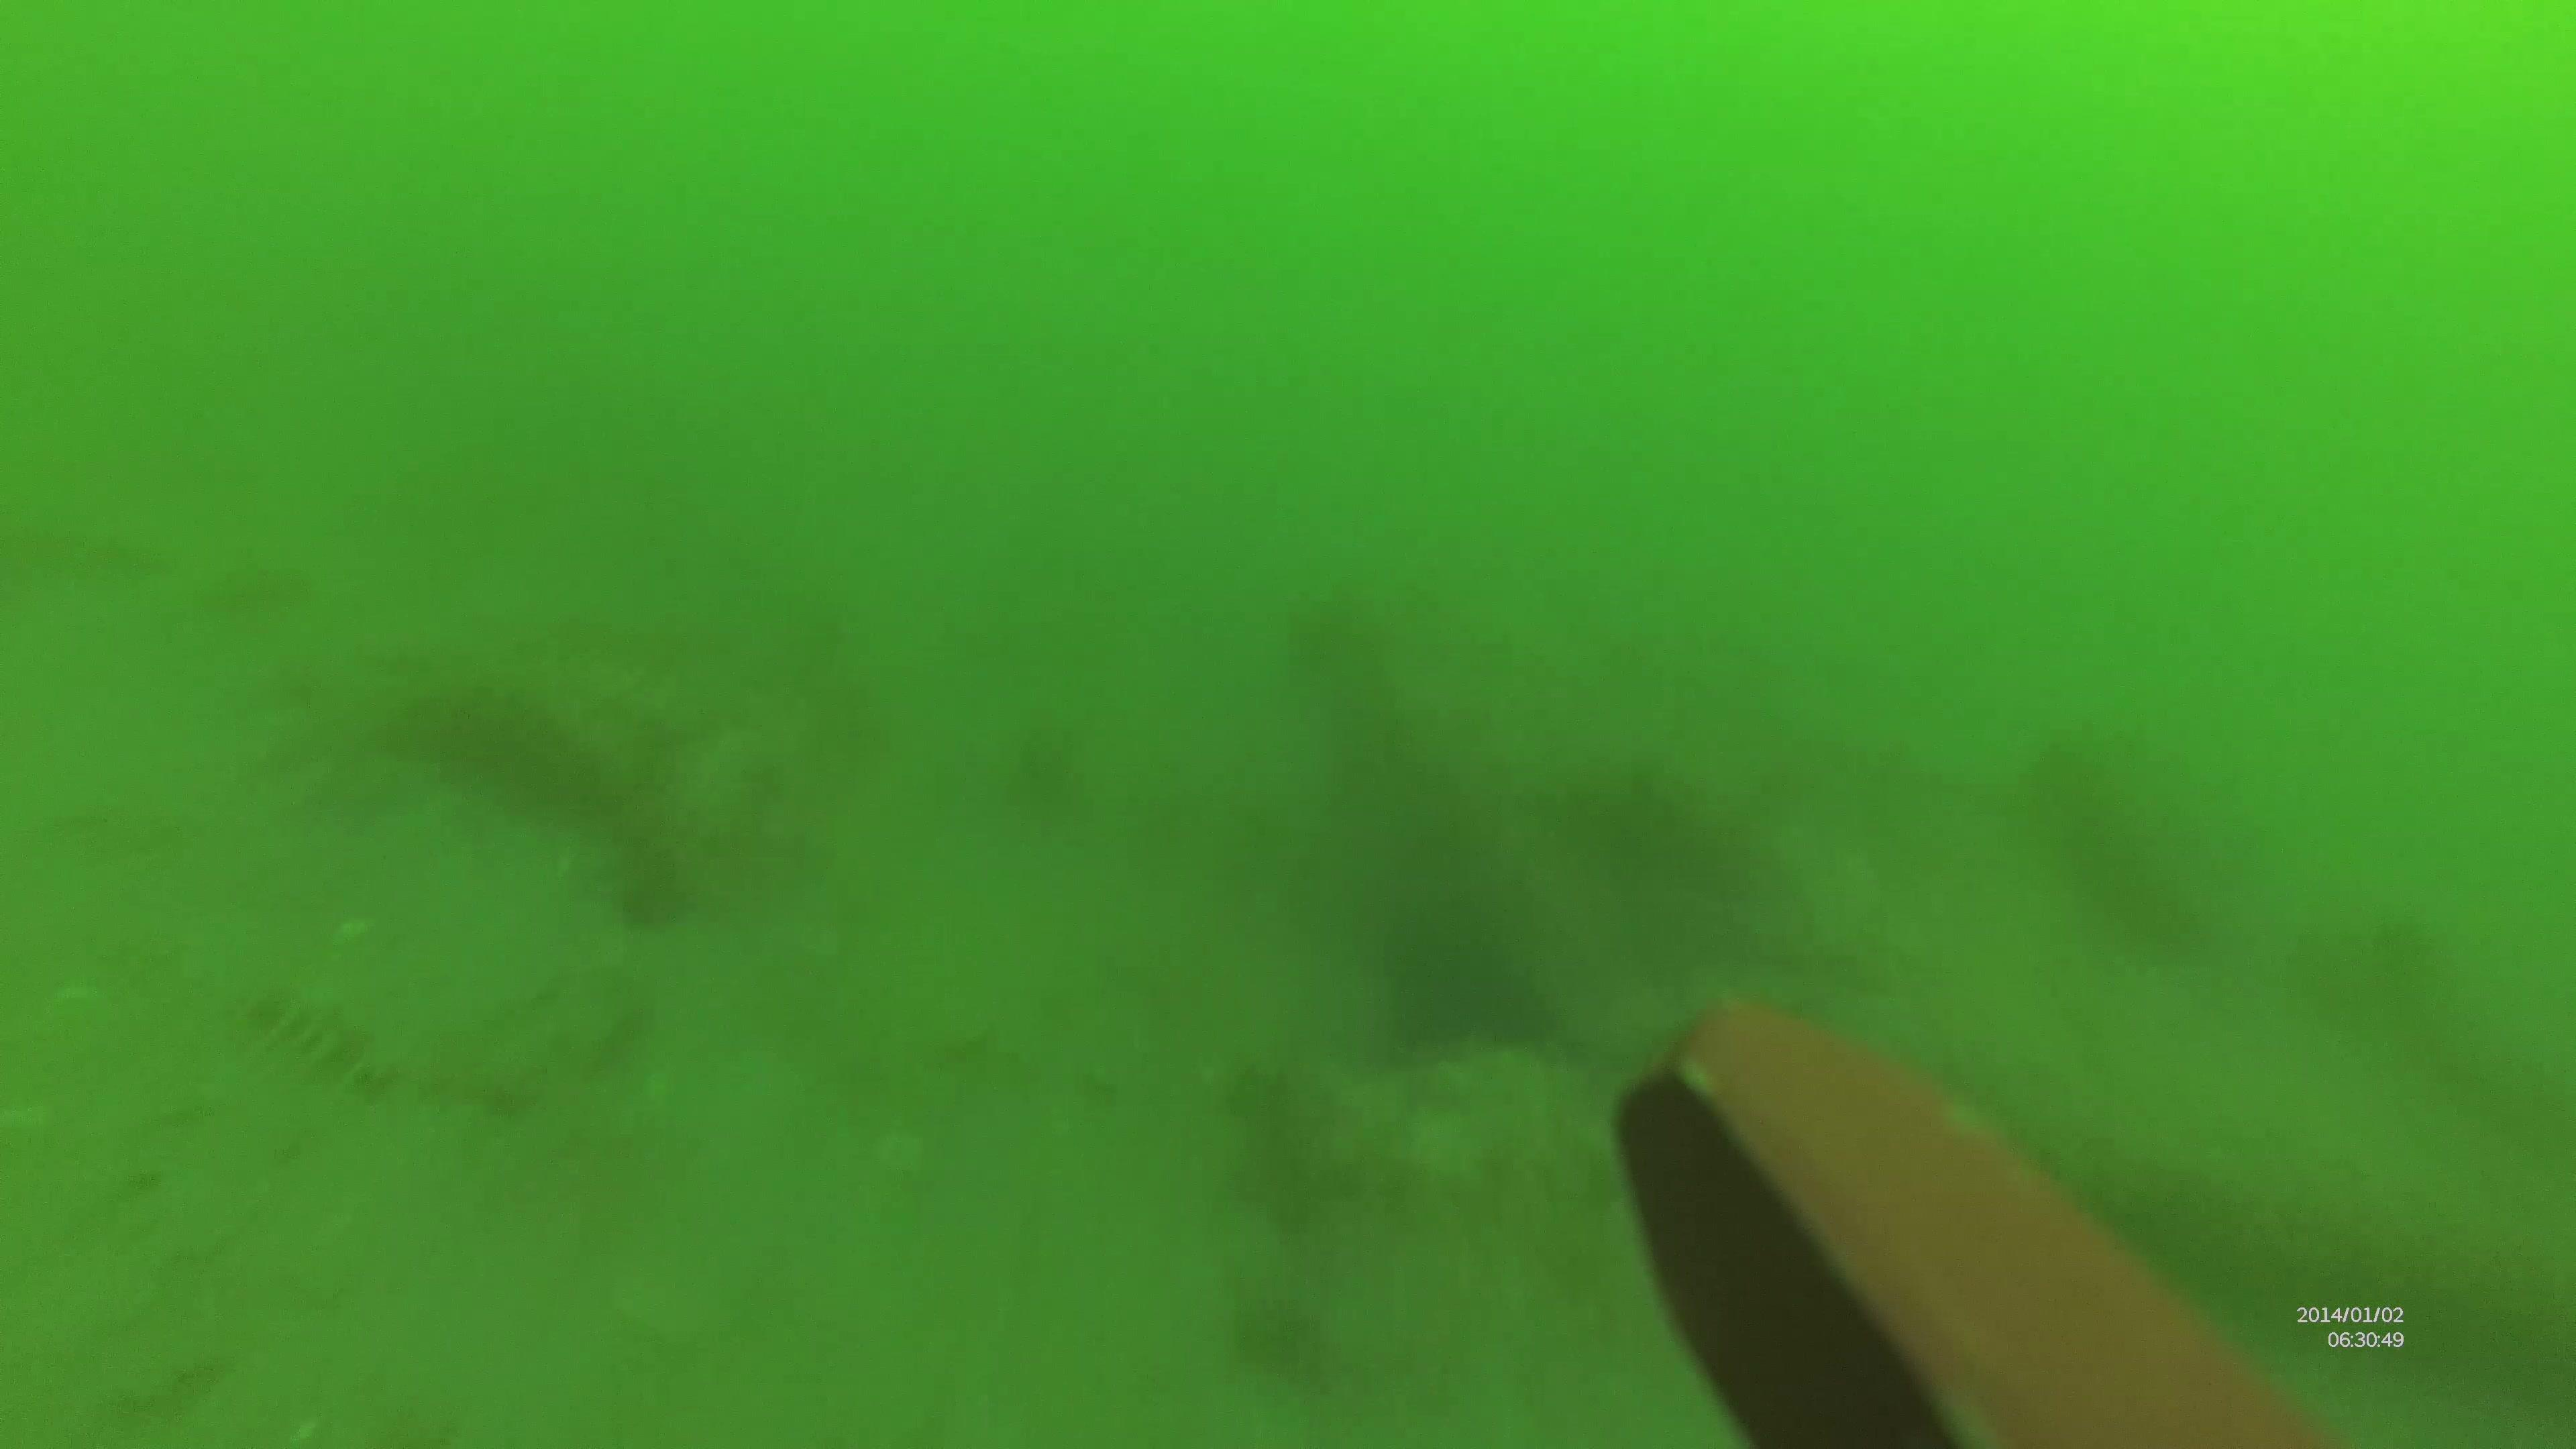holothurian: (242, 971, 405, 1097)
